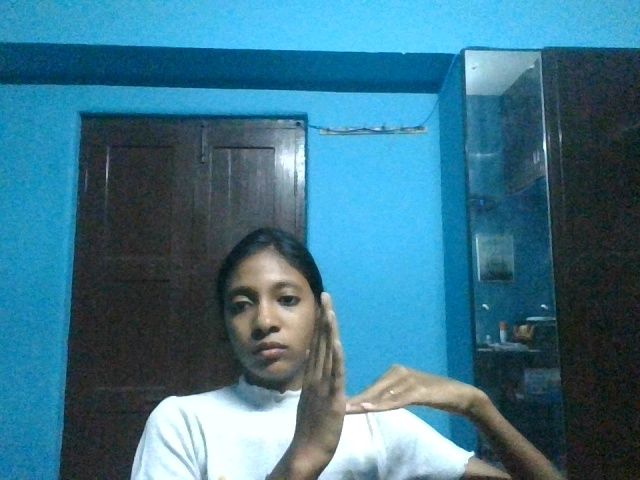Z: (283, 285, 502, 464)
